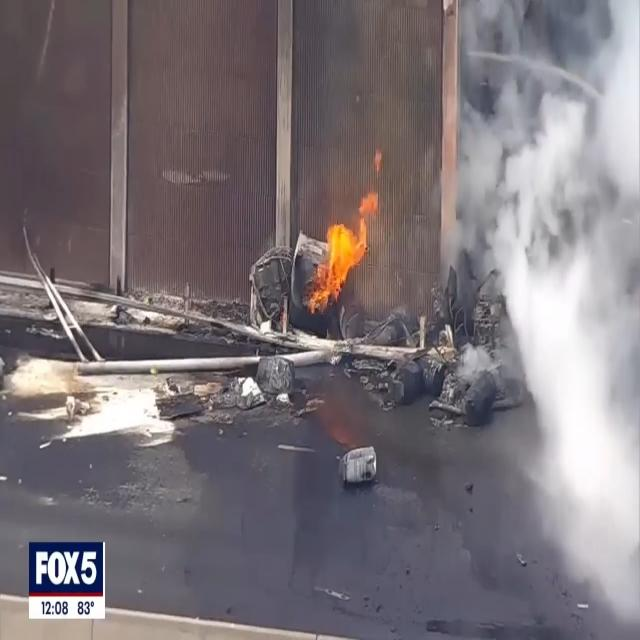fire: (305, 204, 370, 316)
